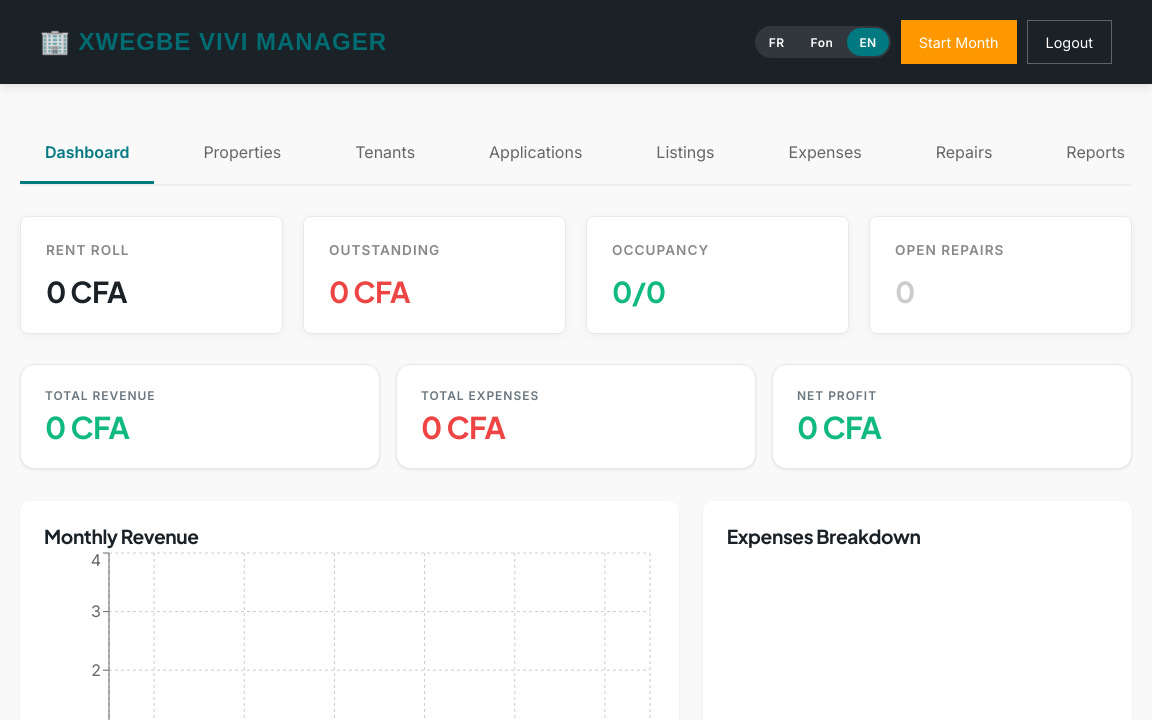
Scenario: LandlordDashboard › navigates to Expenses tab and shows add expense form
The image size is (1152, 720).
Click the text "Expenses" at (825, 152), box top-left (788, 142), bottom-right (862, 162)
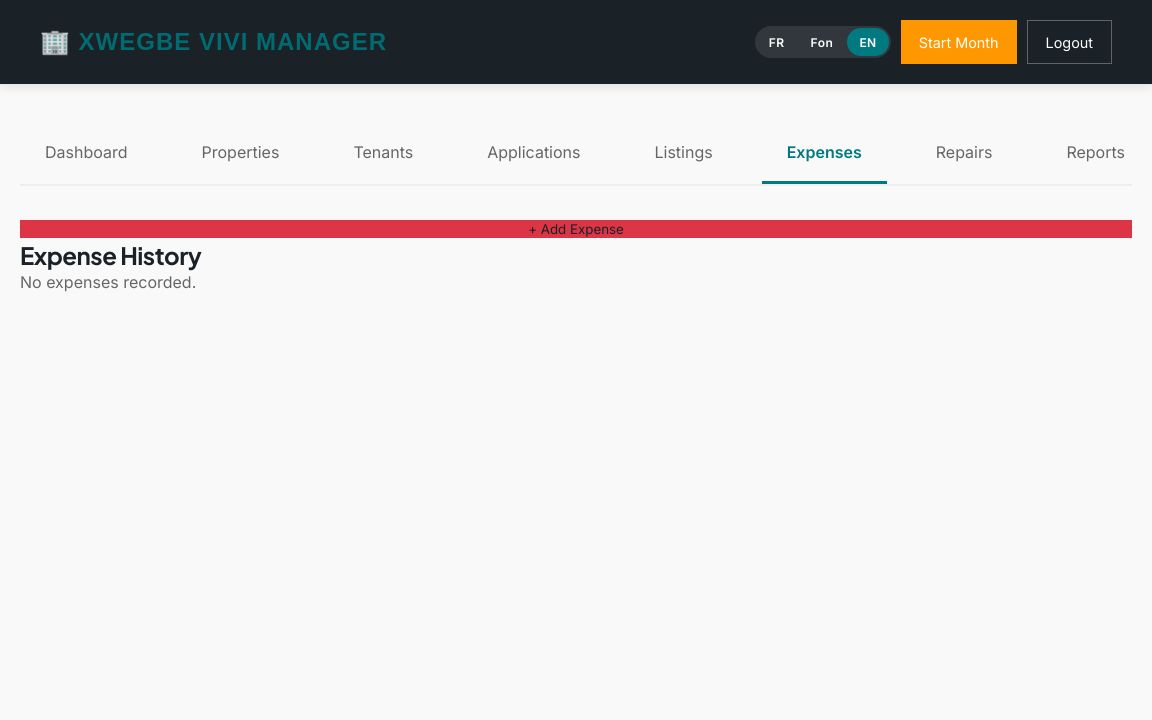
Expected: the button "+ Add Expense" is shown, top-left (20, 220), bottom-right (1132, 238)
